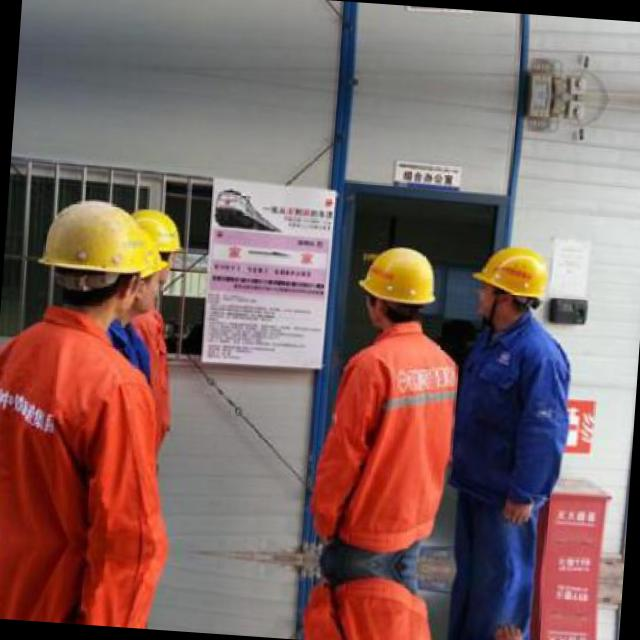helmet: (32, 185, 170, 328), (464, 234, 560, 334), (357, 236, 448, 336), (120, 202, 190, 310)
